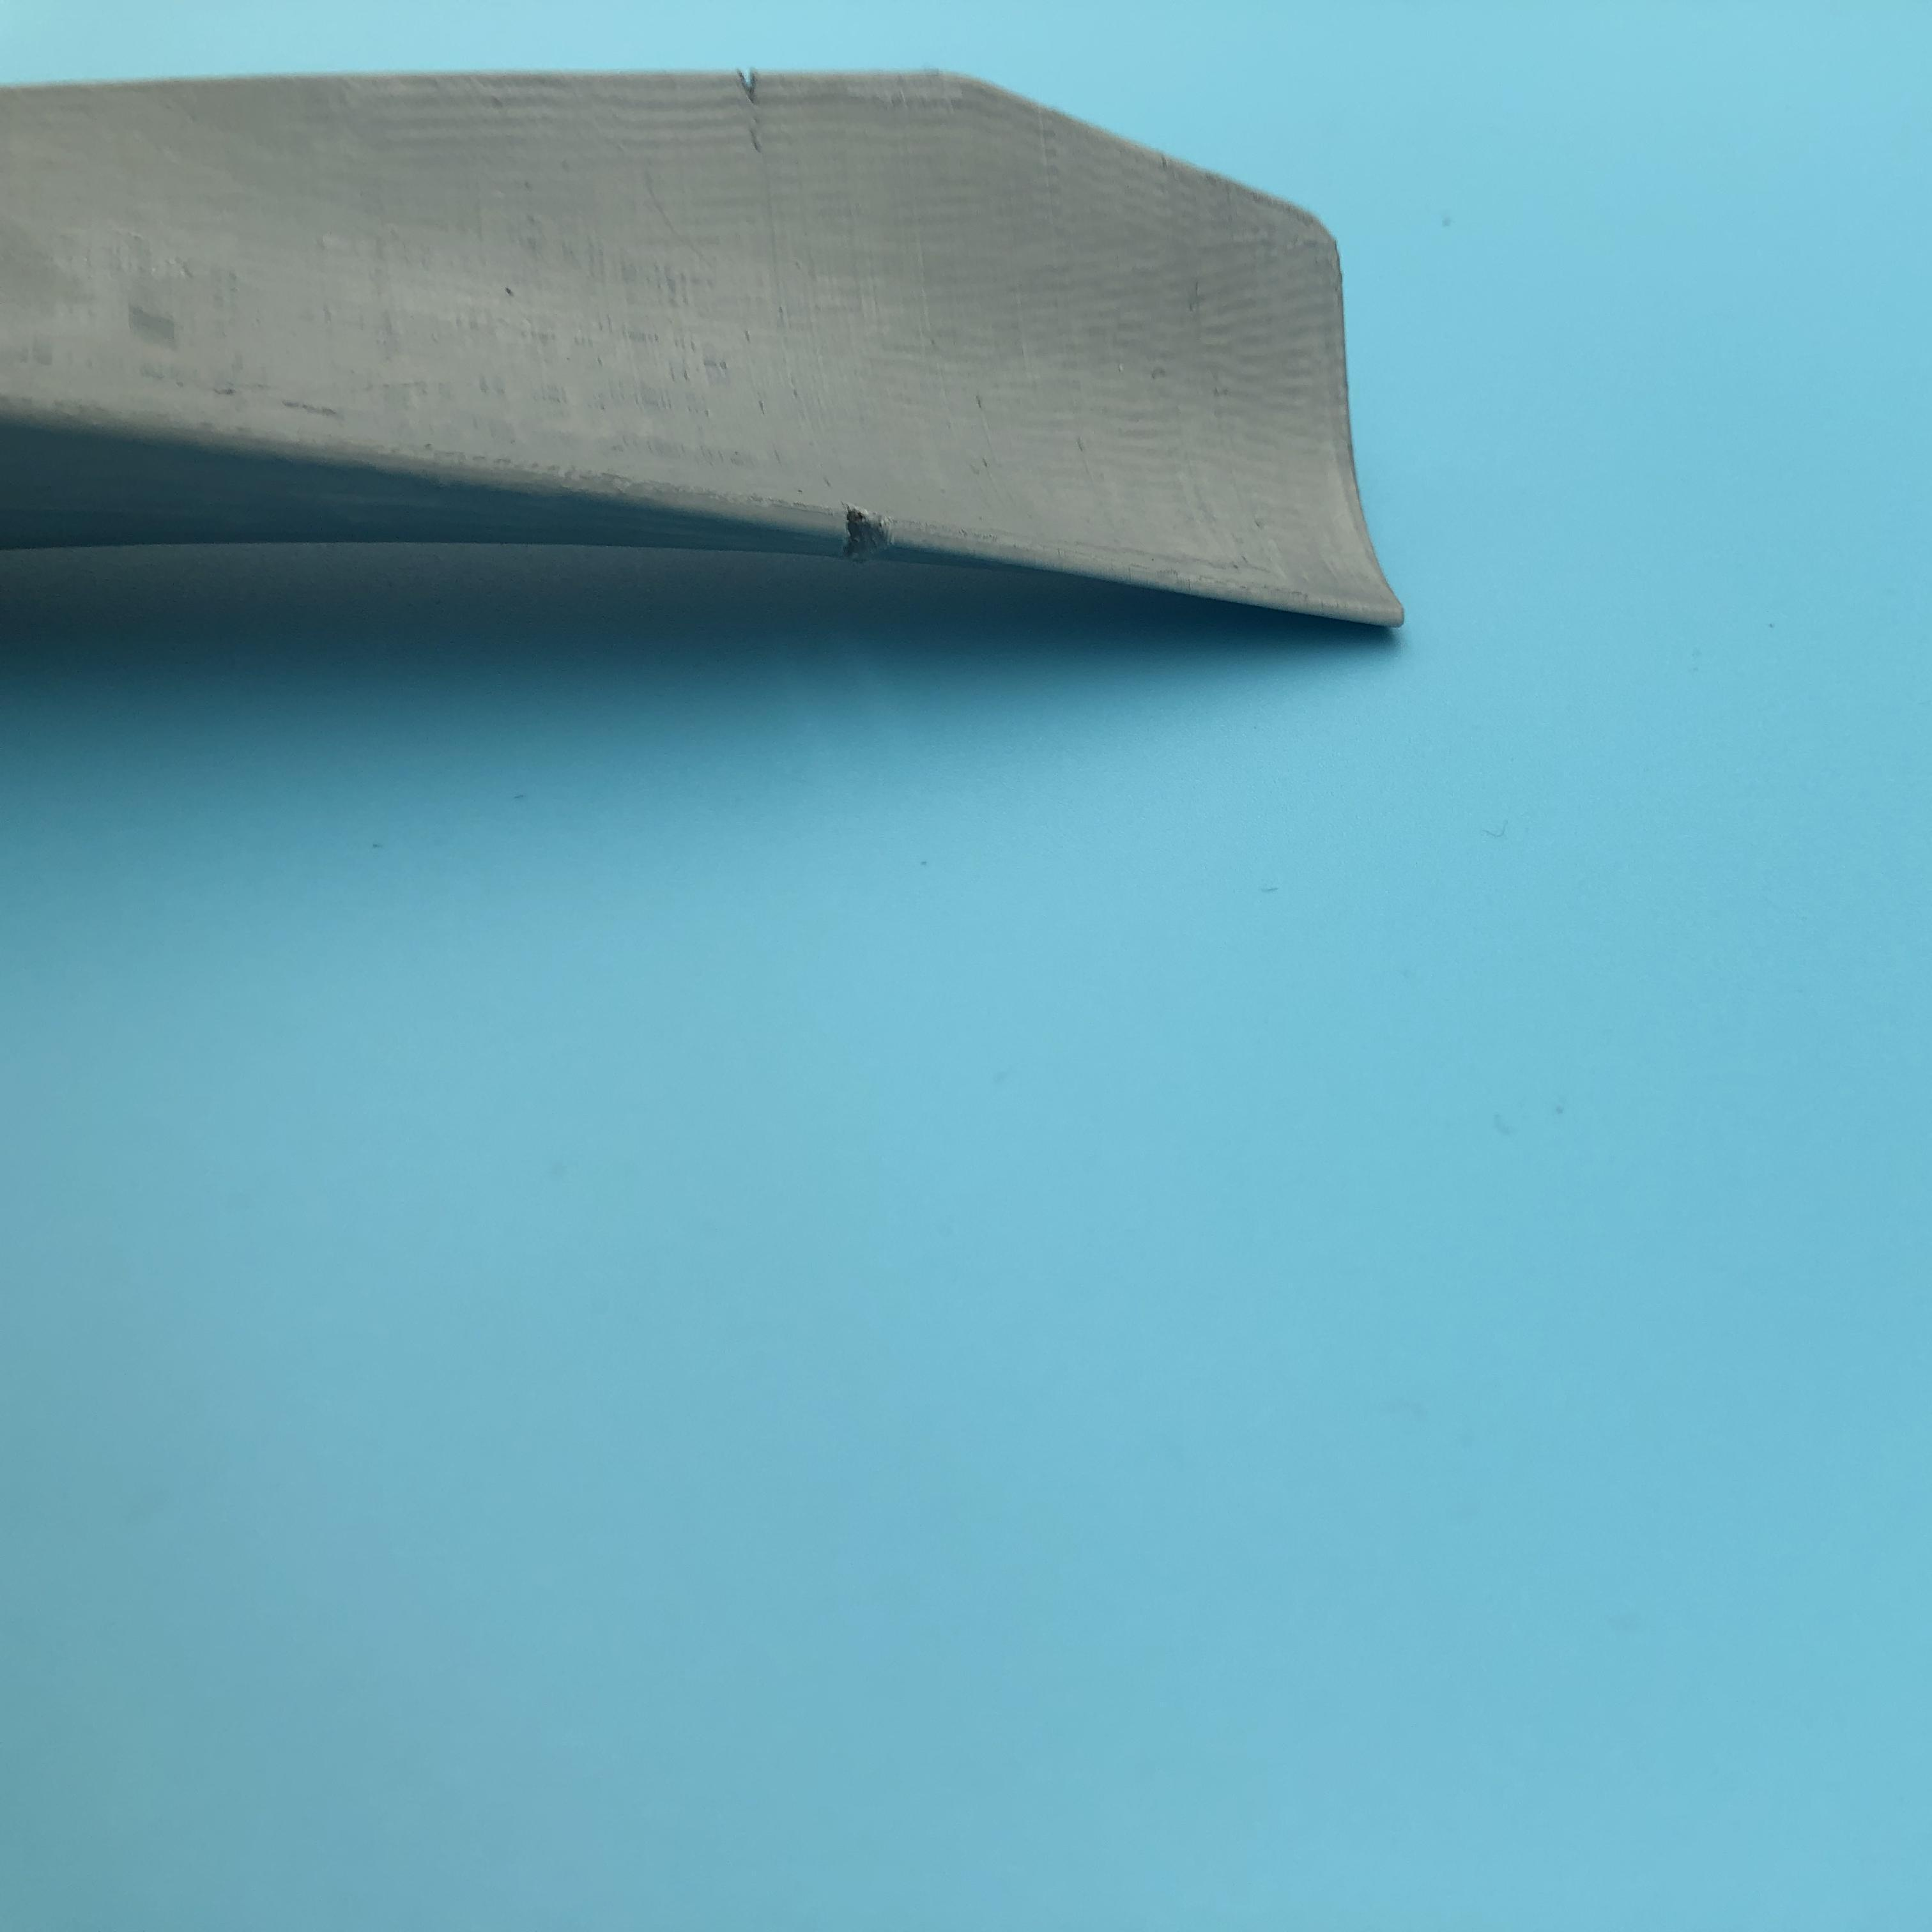groove: (835, 501, 918, 556), (725, 74, 784, 96)
